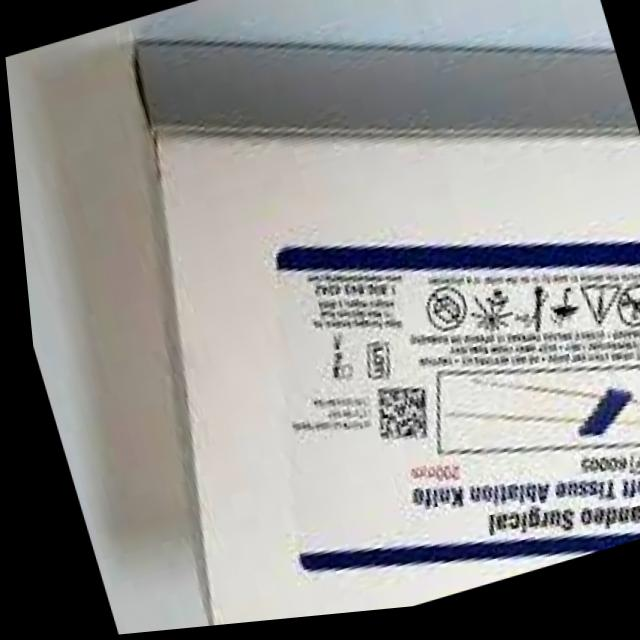datamatrix: (354, 377, 435, 472)
